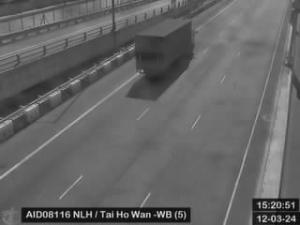truck: (135, 14, 195, 78)
